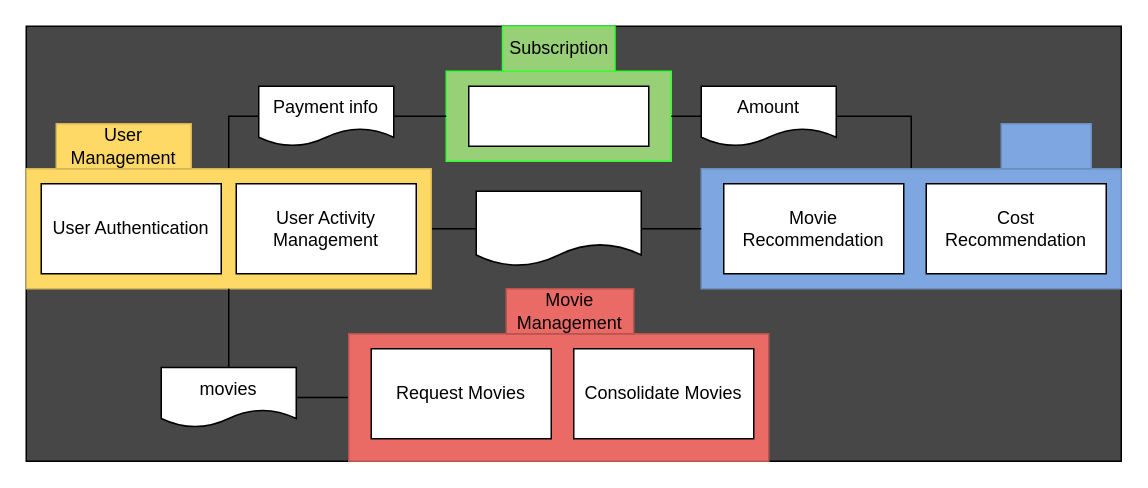
This 1148x488 diagram has some shape labels left out. Each missing label, with the centre of its shape:
"Intelligent System" belongs at point 1045,145.
"Payment Management" belongs at point 558,115.
"user Activity / recommendation" belongs at point 558,228.
